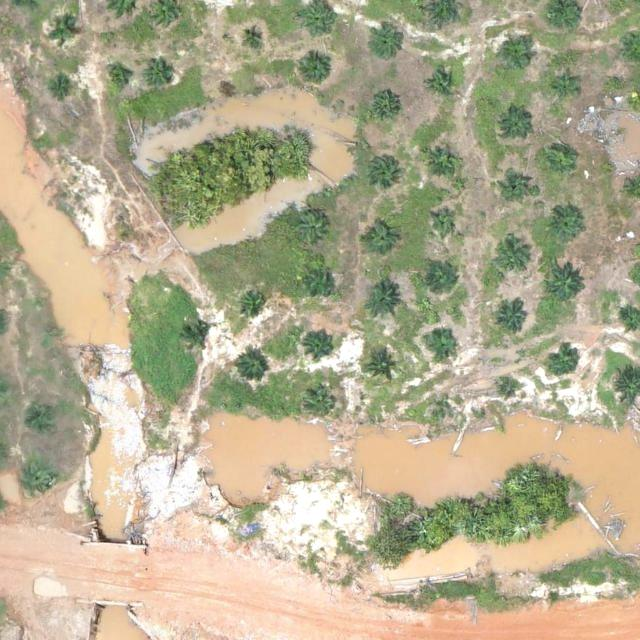Kelapa_Sawit: (363, 283, 402, 322), (545, 261, 583, 300), (494, 238, 532, 277), (543, 205, 581, 244), (295, 51, 333, 90), (422, 140, 460, 179), (496, 303, 527, 334), (547, 345, 578, 376), (501, 168, 532, 199), (503, 40, 534, 71), (500, 108, 531, 139), (542, 143, 573, 174), (425, 325, 456, 356), (427, 263, 458, 294), (363, 224, 394, 255), (370, 27, 401, 58), (366, 155, 397, 186), (297, 214, 328, 245), (304, 266, 335, 297), (304, 327, 335, 358), (236, 352, 267, 383), (366, 352, 397, 383), (368, 90, 399, 121), (425, 68, 456, 99), (23, 466, 54, 497), (29, 401, 60, 432), (305, 390, 336, 421), (238, 287, 269, 318), (181, 322, 212, 353), (144, 58, 175, 89), (552, 75, 575, 98), (431, 210, 454, 233), (50, 19, 73, 42), (51, 75, 74, 98), (105, 65, 128, 88), (242, 25, 265, 48), (500, 378, 515, 393), (441, 400, 456, 415)
